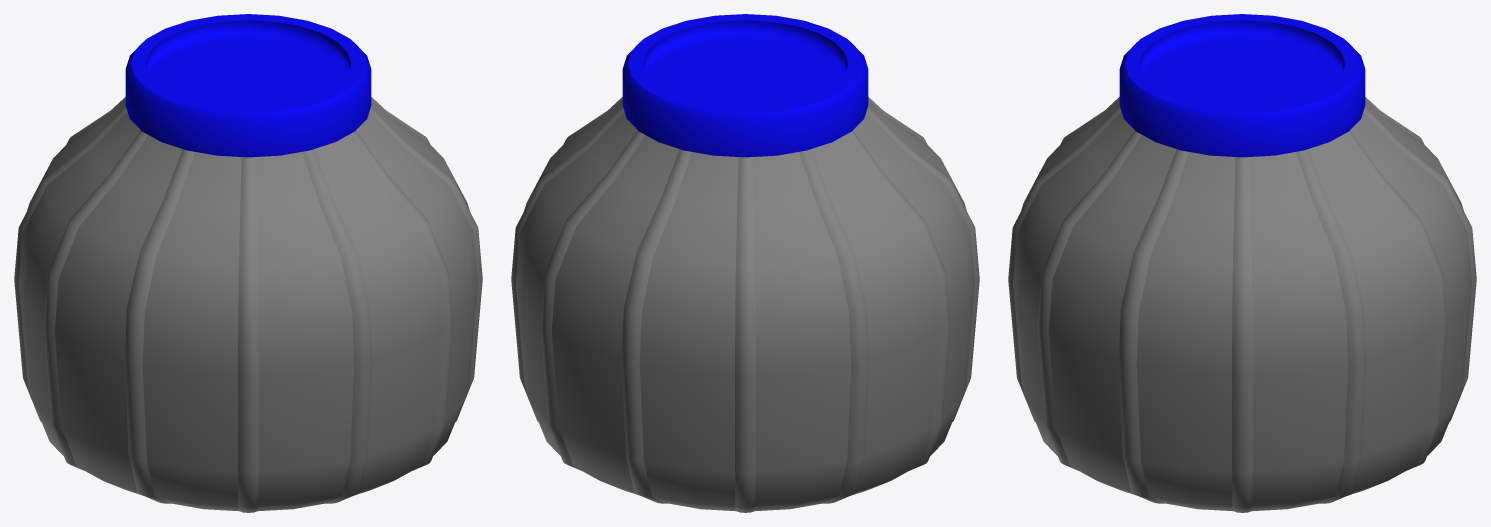
Rendered from SM_BarrelWhite.FBX.
The picture shows the model from 3 angles, left to right: view 1: azimuth 30°, elevation 25°; view 2: azimuth 150°, elevation 25°; view 3: azimuth 270°, elevation 25°; orthographic projection.
Visible parts, largest first — view 1: SM_BarrelWhite_LOD0; view 2: SM_BarrelWhite_LOD0; view 3: SM_BarrelWhite_LOD0.
Boxes of the visible parts, x1,y1,x2,y2 form: SM_BarrelWhite_LOD0: (14, 14, 482, 512); SM_BarrelWhite_LOD0: (511, 14, 979, 512); SM_BarrelWhite_LOD0: (1008, 14, 1476, 512).
Size of what is drawn, in the model's own units: 48.46 by 43.66 by 48.46.
